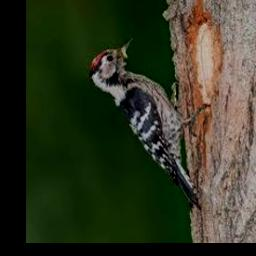Woodpecker: (88, 38, 209, 208)
